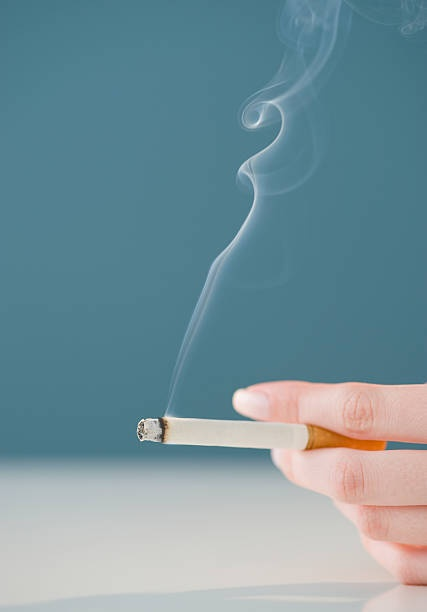sigaretta: (123, 391, 408, 462)
